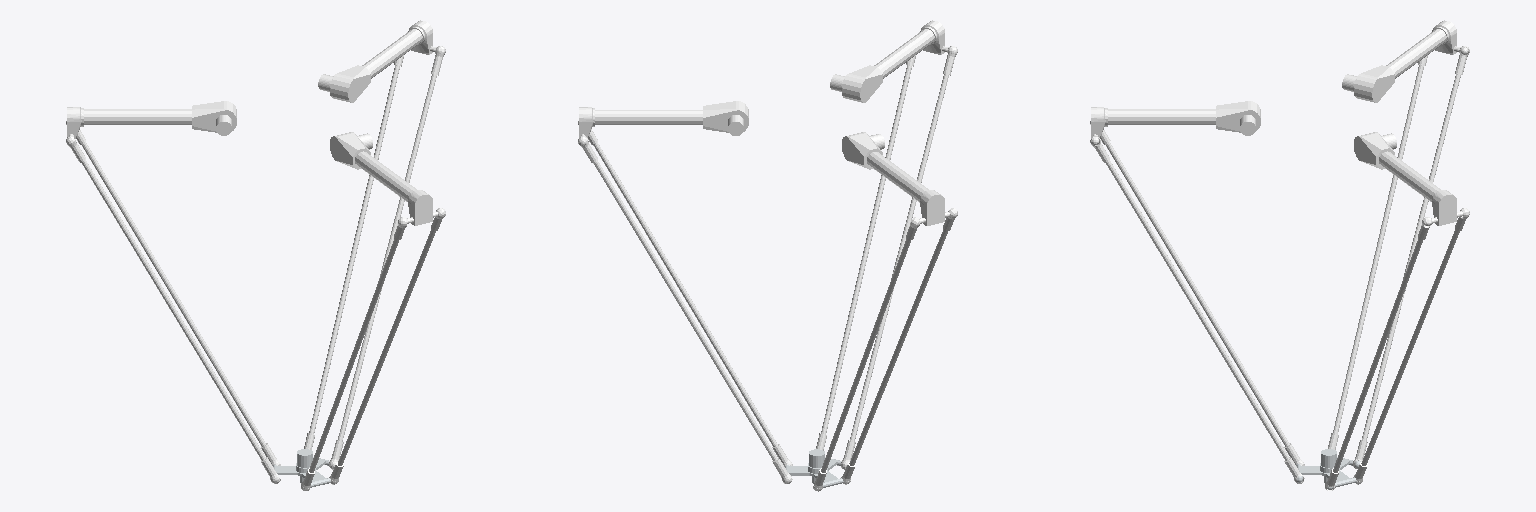
robot.urdf — delta:
<?xml version="1.0" encoding="utf-8"?>
<!-- This URDF was automatically created by SolidWorks to URDF Exporter! Originally created by [author] ([email redacted]) 
     Commit Version: 1.6.0-4-g7f85cfe  Build Version: 1.6.7995.38578
     For more information, please see http://wiki.ros.org/sw_urdf_exporter -->
<robot
  name="delta">
  <link
    name="base_link">
    <inertial>
      <origin
        xyz="0.380382316067151 -0.533525806735634 0.659302816292224"
        rpy="0 0 0" />
      <mass
        value="156.163072577183" />
      <inertia
        ixx="7.59889681143528"
        ixy="9.24660486503918E-05"
        ixz="-0.000259409545019098"
        iyy="7.59824264740178"
        iyz="0.000102275137498802"
        izz="10.3617884952824" />
    </inertial>
    <visual>
      <origin
        xyz="0 0 0"
        rpy="0 0 0" />
      <geometry>
        <mesh
          filename="package://delta/meshes/base_link.STL" />
      </geometry>
      <material
        name="">
        <color
          rgba="1 1 1 1" />
      </material>
    </visual>
    <collision>
      <origin
        xyz="0 0 0"
        rpy="0 0 0" />
      <geometry>
        <mesh
          filename="package://delta/meshes/base_link.STL" />
      </geometry>
    </collision>
  </link>
  <link
    name="arm1u_link">
    <inertial>
      <origin
        xyz="0.114792252146982 0.00182152585989531 0.0495423331065887"
        rpy="0 0 0" />
      <mass
        value="0.646884412038515" />
      <inertia
        ixx="0.000166776951356192"
        ixy="-0.000187543246495444"
        ixz="-4.04262175422229E-09"
        iyy="0.00675559133337473"
        iyz="6.15021016035575E-11"
        izz="0.00677709143476231" />
    </inertial>
    <visual>
      <origin
        xyz="0 0 0"
        rpy="0 0 0" />
      <geometry>
        <mesh
          filename="package://delta/meshes/arm1u_link.STL" />
      </geometry>
      <material
        name="">
        <color
          rgba="1 1 1 1" />
      </material>
    </visual>
    <collision>
      <origin
        xyz="0 0 0"
        rpy="0 0 0" />
      <geometry>
        <mesh
          filename="package://delta/meshes/arm1u_link.STL" />
      </geometry>
    </collision>
  </link>
  <joint
    name="arm1u_joint"
    type="revolute">
    <origin
      xyz="0.332874358144467 -0.683521580995339 0.398756986704061"
      rpy="-1.5707963267949 0 -1.5707963267949" />
    <parent
      link="base_link" />
    <child
      link="arm1u_link" />
    <axis
      xyz="0 0 1" />
    <limit
      lower="0"
      upper="3.1416"
      effort="0"
      velocity="0" />
  </joint>
  <link
    name="arm1l_link">
    <inertial>
      <origin
        xyz="-9.97813808795156E-05 0.196248527207172 -0.336949565440713"
        rpy="0 0 0" />
      <mass
        value="0.254921516517186" />
      <inertia
        ixx="0.0162938612187847"
        ixy="1.24793553857067E-09"
        ixz="7.0953299675545E-10"
        iyy="0.0125763002148967"
        iyz="0.00683803746277884"
        izz="0.00372712094804493" />
    </inertial>
    <visual>
      <origin
        xyz="0 -0.01 -0.01"
        rpy="0 0 0" />
      <geometry>
        <mesh
          filename="package://delta/meshes/arm1l_link.STL" />
      </geometry>
      <material
        name="">
        <color
          rgba="1 1 1 1" />
      </material>
    </visual>
    <collision>
      <origin
        xyz="0 -0.01 -0.01"
        rpy="0 0 0" />
      <geometry>
        <mesh
          filename="package://delta/meshes/arm1l_link.STL" />
      </geometry>
    </collision>
  </link>
  <joint
    name="arm1l_joint"
    type="revolute">
    <origin
      xyz="0.28 0.03 0.0475"
      rpy="1.5708 -1.5708 0" />
    <parent
      link="arm1u_link" />
    <child
      link="arm1l_link" />
    <axis
      xyz="-1 0 0" />
    <limit
      lower="-1"
      upper="1"
      effort="0"
      velocity="0" />
  </joint>
  <link
    name="spider_link">
    <inertial>
      <origin
        xyz="-5.38458166943201E-15 0.00734510079557238 2.69635425098613E-10"
        rpy="0 0 0" />
      <mass
        value="0.207397112440021" />
      <inertia
        ixx="0.000172568881403432"
        ixy="9.71381190011689E-20"
        ixz="3.43716993501032E-19"
        iyy="0.000277154102529209"
        iyz="3.89811485296466E-13"
        izz="0.00017256884108883" />
    </inertial>
    <visual>
      <origin
        xyz="0 0 0"
        rpy="0 0 0" />
      <geometry>
        <mesh
          filename="package://delta/meshes/spider_link.STL" />
      </geometry>
      <material
        name="">
        <color
          rgba="0.898039215686275 0.917647058823529 0.929411764705882 1" />
      </material>
    </visual>
    <collision>
      <origin
        xyz="0 0 0"
        rpy="0 0 0" />
      <geometry>
        <mesh
          filename="package://delta/meshes/spider_link.STL" />
      </geometry>
    </collision>
  </link>
  <joint
    name="spider_joint"
    type="continuous">
    <origin
      xyz="0 0.430000000000003 -0.693897506840888"
      rpy="1.5707963267949 0 -3.14159265358979" />
    <parent
      link="arm1l_link" />
    <child
      link="spider_link" />
    <axis
      xyz="1 0 0" />
  </joint>
  <link
    name="arm2u_link">
    <inertial>
      <origin
        xyz="0.114792190956305 -0.00182152531048962 -0.0251673198673809"
        rpy="0 0 0" />
      <mass
        value="0.646883970811699" />
      <inertia
        ixx="0.000166776836705843"
        ixy="0.000187543268799504"
        ixz="3.2150157847923E-09"
        iyy="0.00675558779094135"
        iyz="3.68581726073319E-11"
        izz="0.00677708810261764" />
    </inertial>
    <visual>
      <origin
        xyz="0 0 0"
        rpy="0 0 0" />
      <geometry>
        <mesh
          filename="package://delta/meshes/arm2u_link.STL" />
      </geometry>
      <material
        name="">
        <color
          rgba="1 1 1 1" />
      </material>
    </visual>
    <collision>
      <origin
        xyz="0 0 0"
        rpy="0 0 0" />
      <geometry>
        <mesh
          filename="package://delta/meshes/arm2u_link.STL" />
      </geometry>
    </collision>
  </link>
  <joint
    name="arm2u_joint"
    type="revolute">
    <origin
      xyz="0.26203 -0.43849 0.39876"
      rpy="1.5708 0 2.618" />
    <parent
      link="base_link" />
    <child
      link="arm2u_link" />
    <axis
      xyz="0 0 1" />
    <limit
      lower="-3.1416"
      upper="0"
      effort="0"
      velocity="0" />
  </joint>
  <link
    name="arm2l_link">
    <inertial>
      <origin
        xyz="4.98873597500338E-05 0.196166188619494 -0.336994118830087"
        rpy="0 0 0" />
      <mass
        value="0.254921516970152" />
      <inertia
        ixx="0.0162937848310827"
        ixy="-4.33135285554664E-08"
        ixz="-2.28771318440279E-08"
        iyy="0.0125763583473423"
        iyz="0.00683807013781495"
        izz="0.00372713928386159" />
    </inertial>
    <visual>
      <origin
        xyz="0 -0.01 -0.01"
        rpy="0.015 0 0" />
      <geometry>
        <mesh
          filename="package://delta/meshes/arm2l_link.STL" />
      </geometry>
      <material
        name="">
        <color
          rgba="1 1 1 1" />
      </material>
    </visual>
    <collision>
      <origin
        xyz="0 -0.01 -0.01"
        rpy="0.015 0 0" />
      <geometry>
        <mesh
          filename="package://delta/meshes/arm2l_link.STL" />
      </geometry>
    </collision>
  </link>
  <joint
    name="arm2l_joint"
    type="revolute">
    <origin
      xyz="0.28 -0.03 -0.023125"
      rpy="1.9005 1.5708 -2.7977" />
    <parent
      link="arm2u_link" />
    <child
      link="arm2l_link" />
    <axis
      xyz="-1 0 0" />
    <limit
      lower="-1"
      upper="1"
      effort="0"
      velocity="0" />
  </joint>
  <link
    name="arm3u_link">
    <inertial>
      <origin
        xyz="0.114792221305797 -0.0018215276521994 0.184356660884916"
        rpy="0 0 0" />
      <mass
        value="0.646884127953809" />
      <inertia
        ixx="0.000166777031838413"
        ixy="0.00018754343528482"
        ixz="4.36611667923892E-09"
        iyy="0.00675559025398928"
        iyz="7.91226247389733E-11"
        izz="0.00677709036650219" />
    </inertial>
    <visual>
      <origin
        xyz="0 0 0"
        rpy="0 0 0" />
      <geometry>
        <mesh
          filename="package://delta/meshes/arm3u_link.STL" />
      </geometry>
      <material
        name="">
        <color
          rgba="1 1 1 1" />
      </material>
    </visual>
    <collision>
      <origin
        xyz="0 0 0"
        rpy="0 0 0" />
      <geometry>
        <mesh
          filename="package://delta/meshes/arm3u_link.STL" />
      </geometry>
    </collision>
  </link>
  <joint
    name="arm3u_joint"
    type="revolute">
    <origin
      xyz="0.417078668164106 -0.297095310806117 0.398756986704061"
      rpy="1.5707963267949 0 0.523598775598305" />
    <parent
      link="base_link" />
    <child
      link="arm3u_link" />
    <axis
      xyz="0 0 1" />
    <limit
      lower="-3.1416"
      upper="0"
      effort="0"
      velocity="0" />
  </joint>
  <link
    name="arm3l_link">
    <inertial>
      <origin
        xyz="6.68770569014487E-05 0.196297587644045 -0.336923472185262"
        rpy="0 0 0" />
      <mass
        value="0.254921517454708" />
      <inertia
        ixx="0.0162938220391309"
        ixy="1.34163498613678E-08"
        ixz="6.18717760626569E-09"
        iyy="0.0125763293786619"
        iyz="0.00683805476278882"
        izz="0.00372713113058198" />
    </inertial>
    <visual>
      <origin
        xyz="0 -0.01 -0.01"
        rpy="0 0 0" />
      <geometry>
        <mesh
          filename="package://delta/meshes/arm3l_link.STL" />
      </geometry>
      <material
        name="">
        <color
          rgba="1 1 1 1" />
      </material>
    </visual>
    <collision>
      <origin
        xyz="0 -0.01 -0.01"
        rpy="0 0 0" />
      <geometry>
        <mesh
          filename="package://delta/meshes/arm3l_link.STL" />
      </geometry>
    </collision>
  </link>
  <joint
    name="arm3l_joint"
    type="revolute">
    <origin
      xyz="0.28 -0.03 0.1864"
      rpy="-1.6655 1.5708 -0.094749" />
    <parent
      link="arm3u_link" />
    <child
      link="arm3l_link" />
    <axis
      xyz="-1 0 0" />
    <limit
      lower="-1"
      upper="1"
      effort="0"
      velocity="0" />
  </joint>
</robot>

--- What the picture shows (computed from the rendered views, not written in the file) ---
3 views of the same robot in one strip: view 1: azimuth 30°, elevation 25°; view 2: azimuth 150°, elevation 25°; view 3: azimuth 270°, elevation 25° (orthographic).
Model delta with 8 links and 7 joints (6 revolute, 1 continuous), rooted at base_link, posed every joint at zero.
Links seen in each view (by area): view 1: arm2l_link, arm3l_link, arm2u_link, arm1l_link, arm1u_link, arm3u_link, spider_link; view 2: arm3l_link, arm1l_link, arm2l_link, arm3u_link, arm2u_link, arm1u_link, spider_link; view 3: arm1l_link, arm2l_link, arm1u_link, arm3l_link, arm3u_link, arm2u_link, spider_link.
Link boxes in pixels (x1,y1,x2,y2): arm2l_link: (66, 121, 280, 483); arm3l_link: (304, 37, 445, 469); arm2u_link: (67, 101, 236, 138); arm1l_link: (301, 208, 445, 490); arm1u_link: (330, 132, 437, 225); arm3u_link: (318, 20, 436, 102); spider_link: (273, 449, 330, 487); arm3l_link: (578, 121, 792, 483); arm1l_link: (816, 46, 957, 469); arm2l_link: (813, 208, 957, 491); arm3u_link: (579, 101, 748, 137); arm2u_link: (842, 132, 949, 225); arm1u_link: (830, 20, 948, 102); spider_link: (785, 449, 843, 487); arm1l_link: (1090, 121, 1304, 483); arm2l_link: (1328, 46, 1469, 468); arm1u_link: (1091, 101, 1260, 144); arm3l_link: (1325, 208, 1469, 490); arm3u_link: (1354, 132, 1463, 225); arm2u_link: (1342, 20, 1468, 102); spider_link: (1295, 449, 1360, 489).
Bounding box of the posed robot: 0.8088 × 0.7033 × 0.7739 m (x, y, z).
7 mesh visuals loaded from 8 distinct referenced files (7 binary STL); not drawn: 1 (reference not matched to a file when rendering).